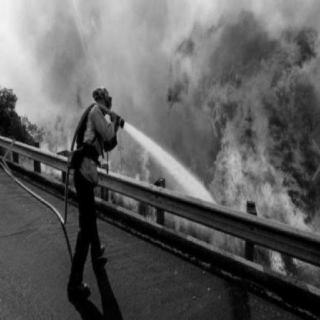Fire: (98, 140, 156, 210), (7, 144, 35, 172)
Smoke: (124, 20, 160, 120), (42, 8, 84, 92)
